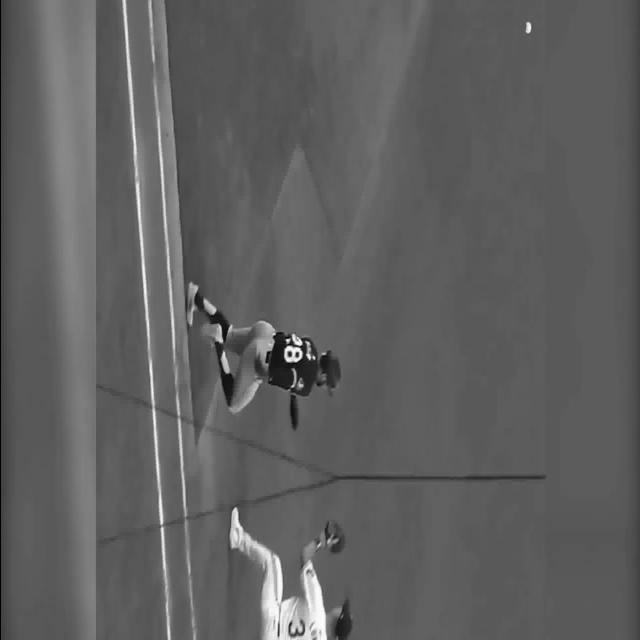baseball: (524, 20, 531, 34)
baseball_glove: (324, 520, 346, 554)
shoe: (186, 280, 198, 326), (228, 505, 240, 549), (200, 322, 222, 342)
